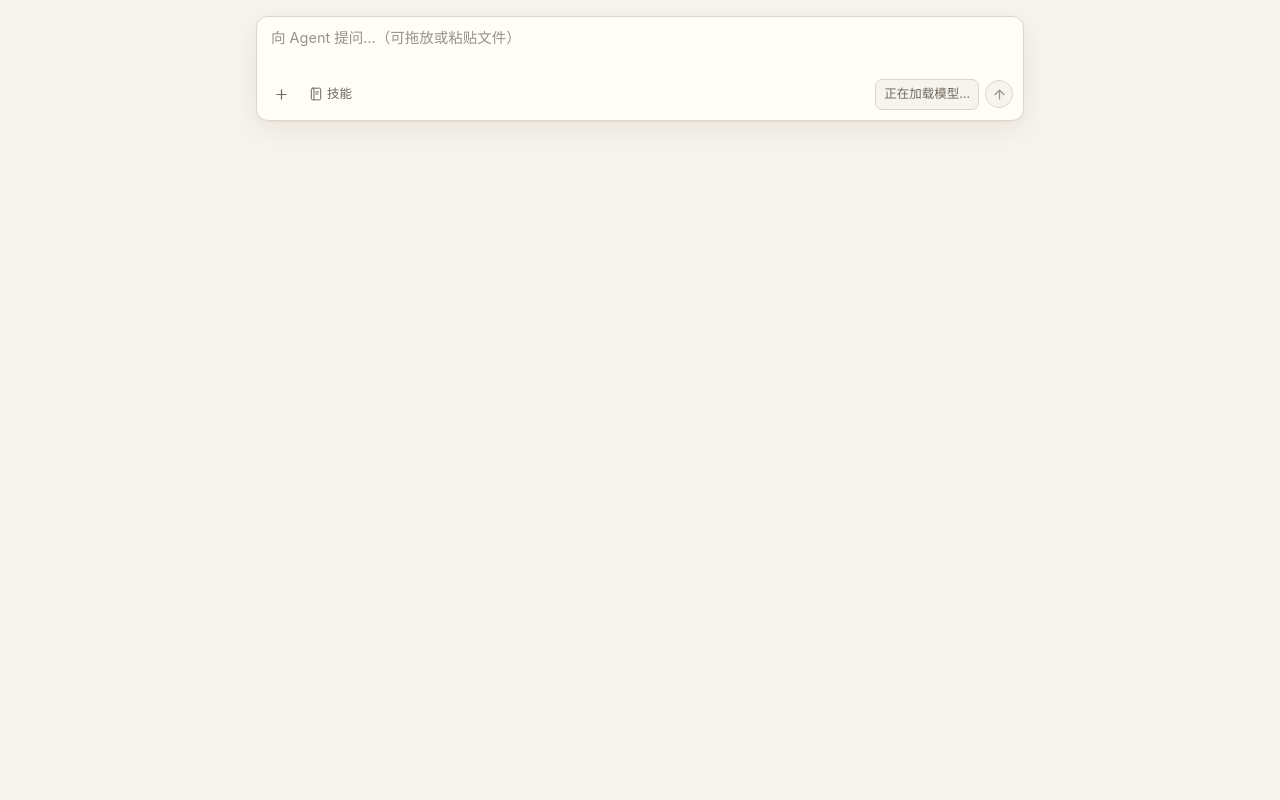
Composer 技能按钮与挂载徽章 › Delete/Backspace on an empty pinned input unpins the skill
This screenshot has width=1280, height=800.
Click the button with test id "composer-skill-button".
click(330, 94)  # box [301,80,360,109]
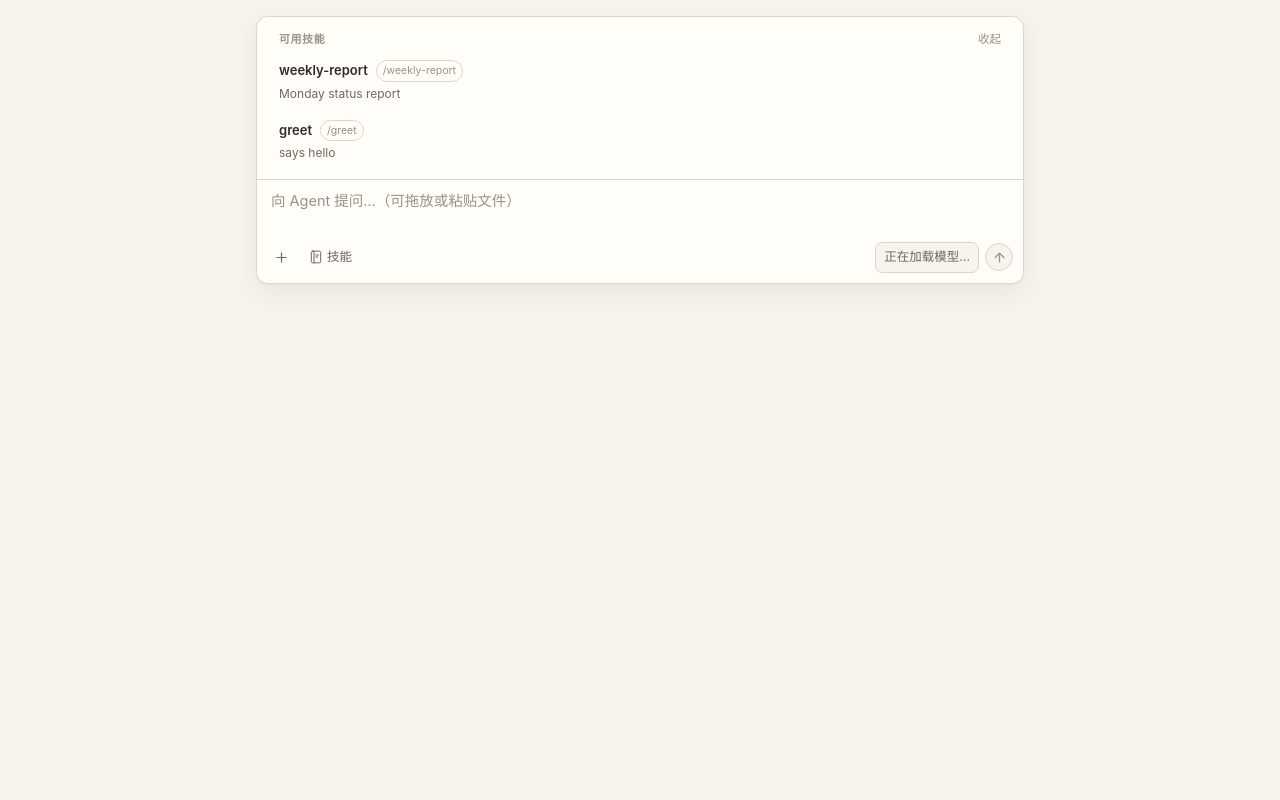
Click the button with test id "skill-menu-greet".
click(295, 130)  # box [271,112,1009,171]
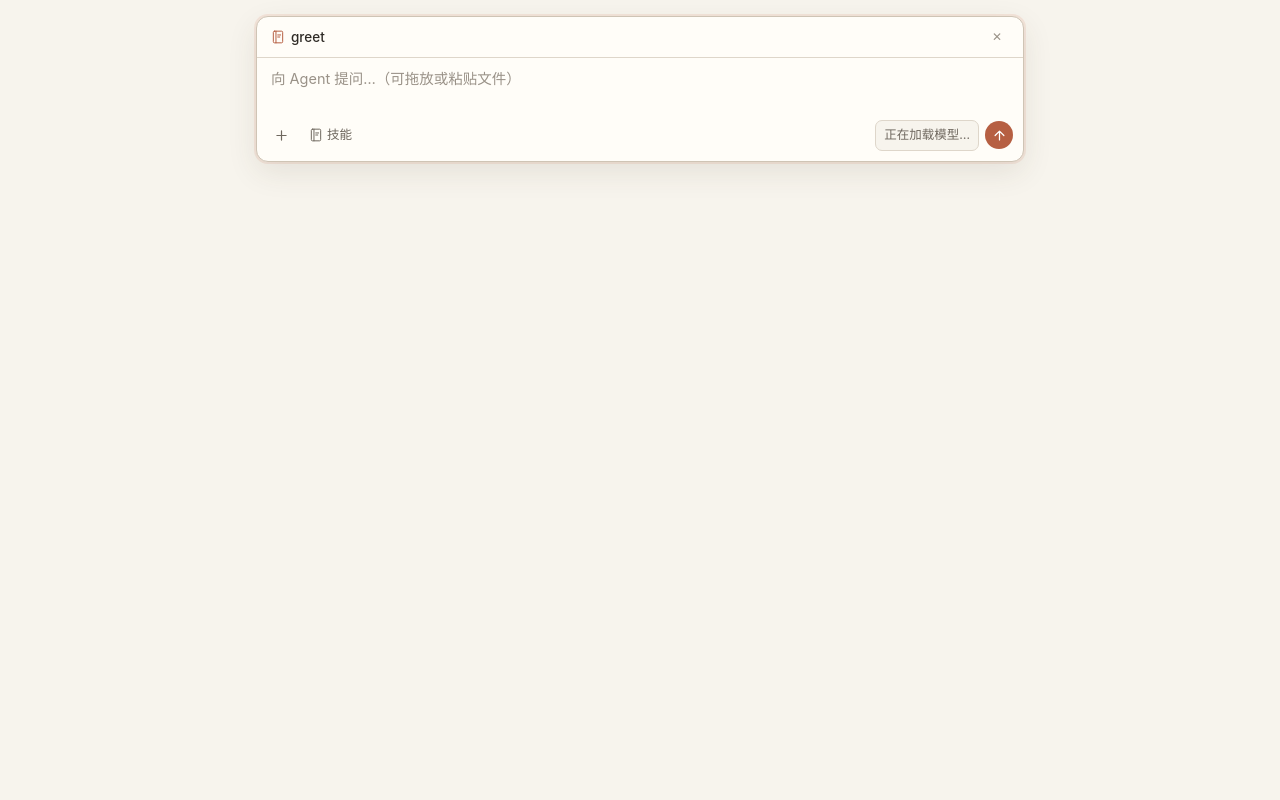
Check: the element with test id "pinned-skill-chip" is shown, box [271,27,325,47]
Press Backspace in the text box with placeholder "向 Agent 提问…（可拖放或粘贴文件）", box [257,68,1023,108]
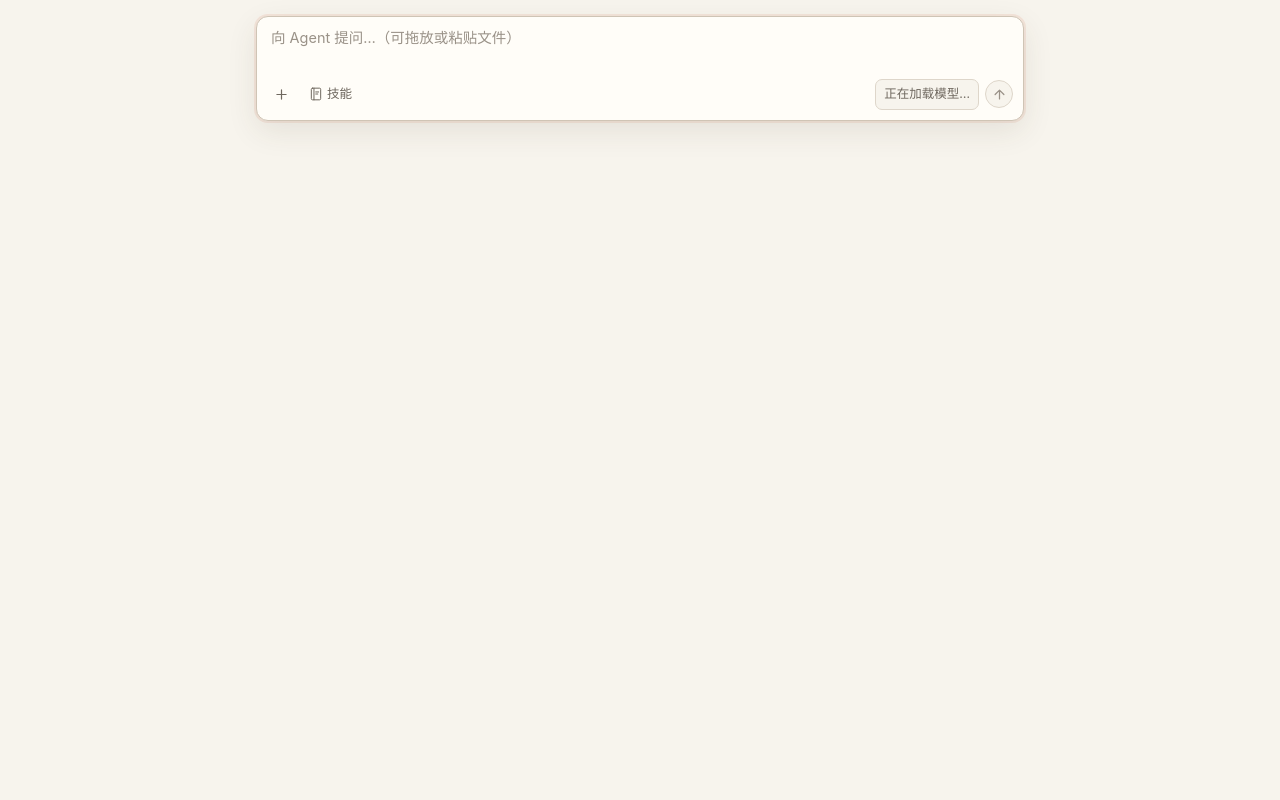
Check: the element with test id "pinned-skill-chip" is gone
再挂载一次，Delete 键同样生效（事件在输入框上触发）。
Click the button with test id "composer-skill-button".
click(330, 94)  # box [301,80,360,109]
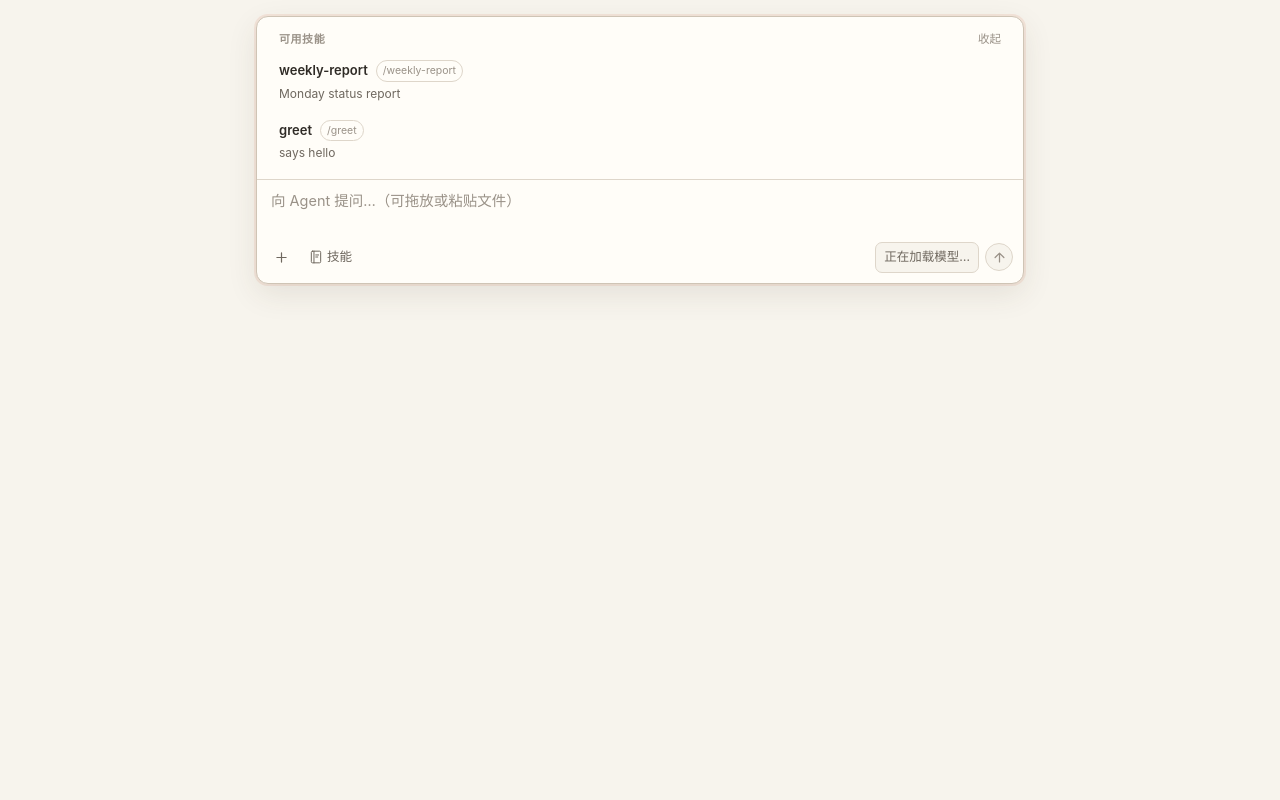
Click the button with test id "skill-menu-greet".
click(295, 130)  # box [271,112,1009,171]
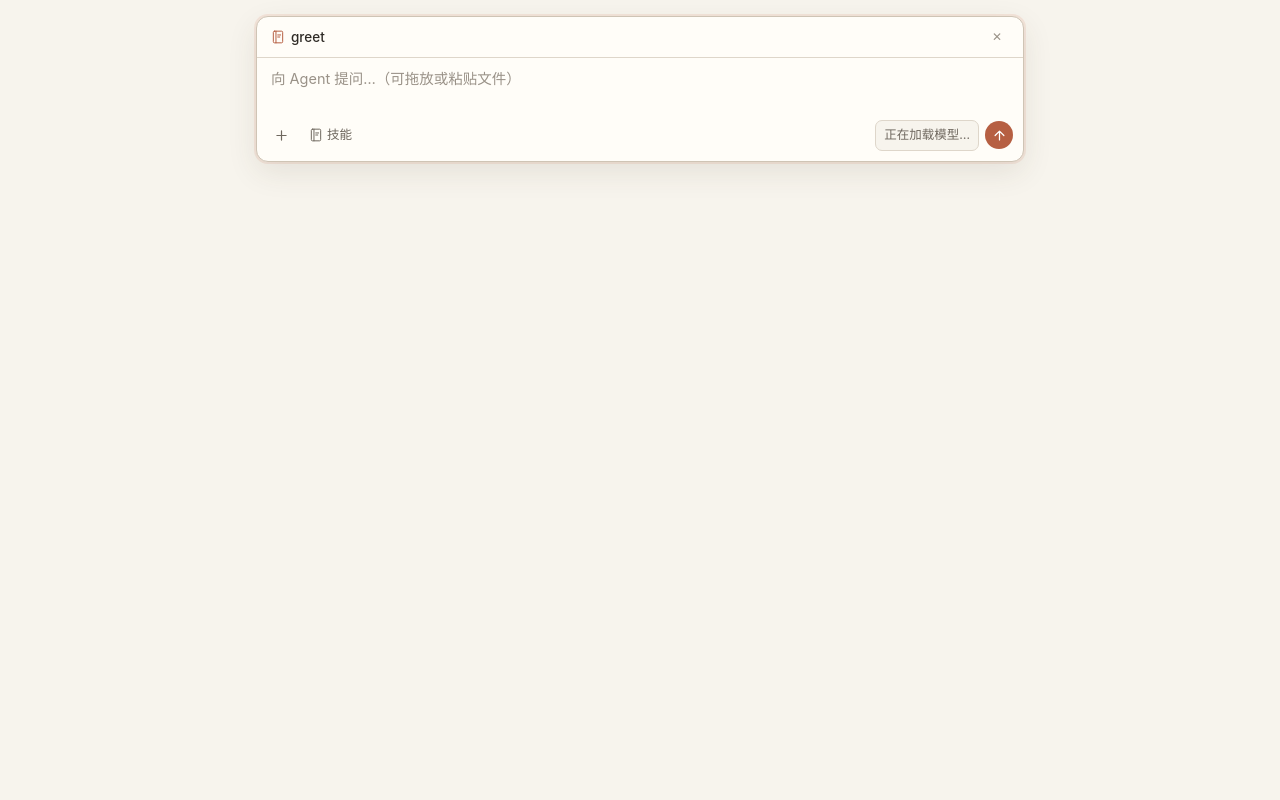
Press Delete in the text box with placeholder "向 Agent 提问…（可拖放或粘贴文件）", box [257,68,1023,108]
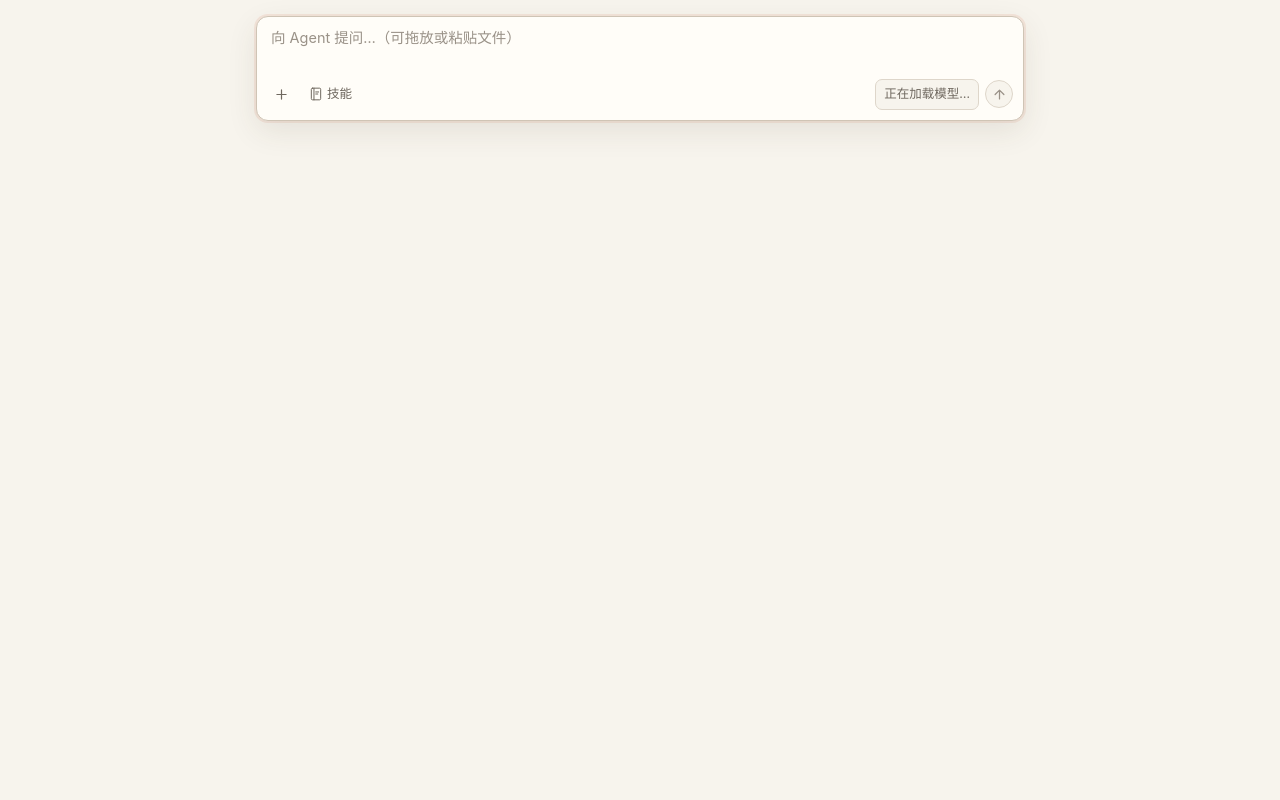
Check: the element with test id "pinned-skill-chip" is gone
